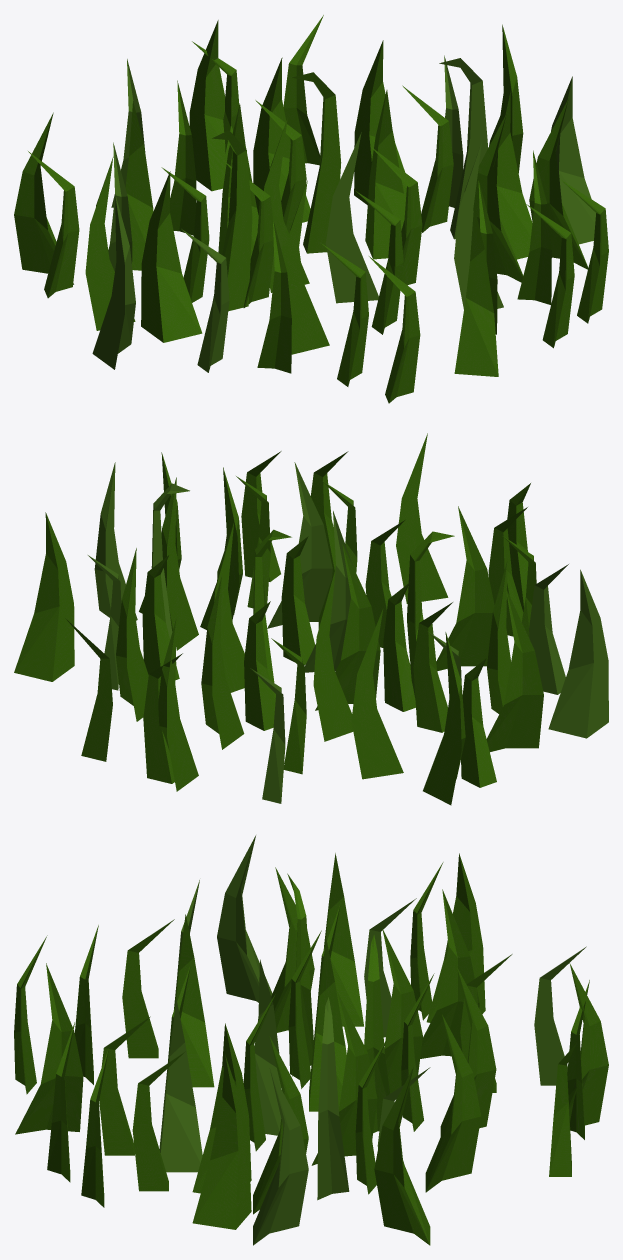
The model's file is Grass2.fbx.
3 views of the same model, one above another, from view 1: azimuth 30°, elevation 25°; view 2: azimuth 150°, elevation 25°; view 3: azimuth 270°, elevation 25° (orthographic). The views are drawn at different scales.
Parts seen in each view (by area): view 1: Group35, Group39, Group3, Group8, Group13, Group44, Group15, Group14, Group27, Group23, Group37, Group30 (+32 smaller); view 2: Group19, Group27, Group32, Group30, Group34, Group33, Group12, Group21, Group31, Group44, Group3, Group20 (+31 smaller); view 3: Group38, Group12, Group3, Group19, Group20, Group37, Group27, Group17, Group34, Group30, Group32, Group39 (+28 smaller).
Boxes of the visible parts, bbox=[...] form: Group35: bbox=[141, 171, 202, 342]; Group39: bbox=[189, 20, 232, 191]; Group3: bbox=[454, 206, 498, 376]; Group8: bbox=[212, 130, 252, 311]; Group13: bbox=[365, 90, 405, 259]; Group44: bbox=[14, 112, 73, 284]; Group15: bbox=[292, 72, 341, 253]; Group14: bbox=[325, 132, 378, 303]; Group27: bbox=[92, 194, 135, 369]; Group23: bbox=[489, 91, 532, 259]; Group37: bbox=[551, 76, 595, 244]; Group30: bbox=[283, 180, 329, 354]; Group19: bbox=[14, 512, 74, 681]; Group27: bbox=[548, 569, 608, 738]; Group32: bbox=[486, 588, 543, 751]; Group30: bbox=[436, 506, 494, 671]; Group34: bbox=[351, 609, 403, 779]; Group33: bbox=[201, 576, 244, 749]; Group12: bbox=[267, 462, 332, 628]; Group21: bbox=[313, 569, 353, 741]; Group31: bbox=[315, 544, 380, 710]; Group44: bbox=[423, 632, 465, 805]; Group3: bbox=[396, 433, 448, 603]; Group20: bbox=[116, 548, 148, 721]; Group38: bbox=[192, 1054, 251, 1229]; Group12: bbox=[159, 999, 202, 1172]; Group3: bbox=[15, 963, 83, 1134]; Group19: bbox=[374, 1067, 430, 1245]; Group20: bbox=[425, 1014, 481, 1192]; Group37: bbox=[253, 1067, 308, 1245]; Group27: bbox=[217, 835, 272, 1002]; Group17: bbox=[317, 997, 349, 1200]; Group34: bbox=[420, 889, 479, 1058]; Group30: bbox=[174, 914, 214, 1087]; Group32: bbox=[323, 853, 363, 1026]; Group39: bbox=[568, 963, 608, 1125].
Bounding box in the file's own units: 647 × 222 × 645.
